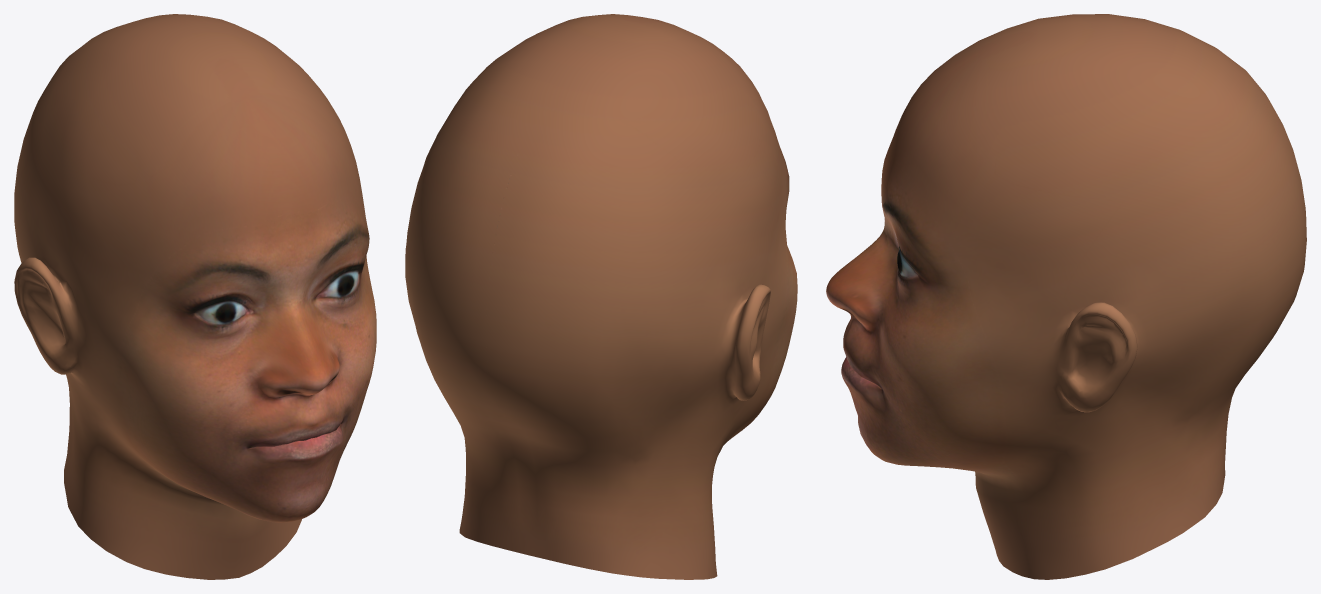
The model's file is v332_obj_ExpressionHmmm.obj.
3 views of the same model, side by side, from view 1: azimuth 30°, elevation 25°; view 2: azimuth 150°, elevation 25°; view 3: azimuth 270°, elevation 25° (orthographic). The views are drawn at different scales.
Visible parts, largest first — view 1: HeadHires; view 2: HeadHires; view 3: HeadHires.
Boxes of the visible parts, x1,y1,x2,y2 form: HeadHires: (14, 14, 376, 579); HeadHires: (405, 14, 797, 579); HeadHires: (826, 14, 1306, 579).
Size of the model in its own units: 187 by 282 by 233.
